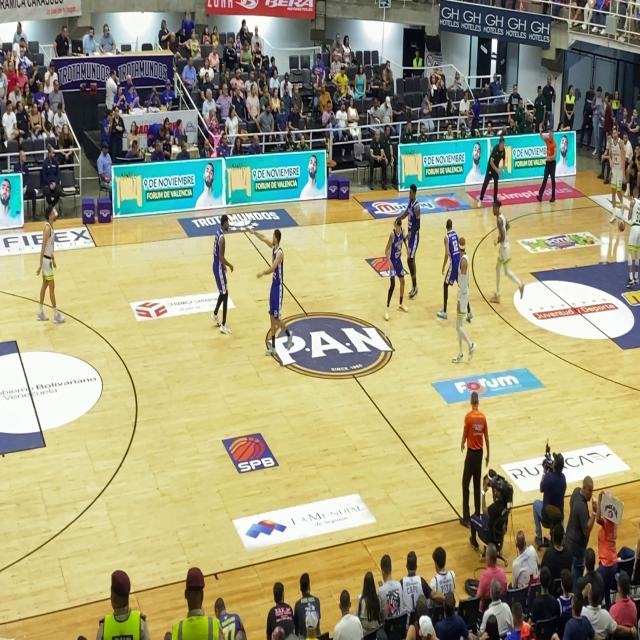Ball: (617, 217, 626, 235)
referee: (457, 389, 497, 552)
team1: (603, 119, 625, 212)
team2: (258, 214, 290, 348), (208, 201, 237, 325), (400, 177, 422, 295), (379, 216, 405, 315)
